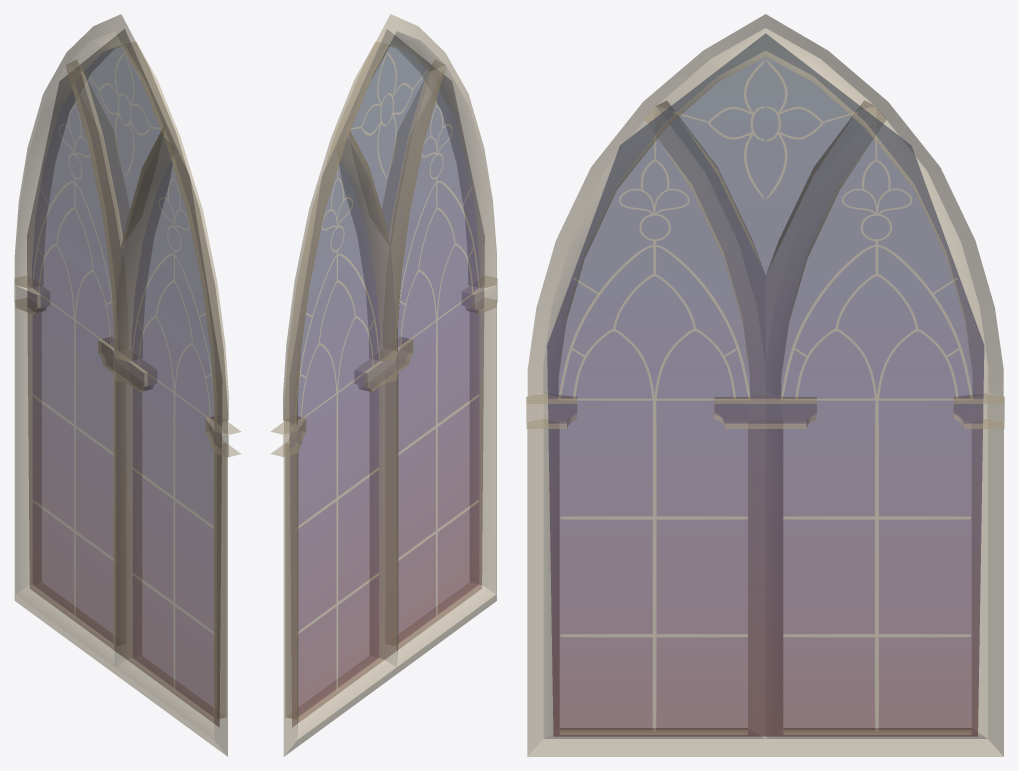
Rendered from witraz1.fbx.
3 views of the same model, side by side, from view 1: azimuth 30°, elevation 25°; view 2: azimuth 150°, elevation 25°; view 3: azimuth 270°, elevation 25° (orthographic). The views are drawn at different scales.
Parts seen in each view (by area): view 1: Cube.001, Cube.020; view 2: Cube.001, Cube.020; view 3: Cube.001, Cube.020.
Boxes of the visible parts, x1=… form: Cube.001: x1=27, y1=29, x2=222, y2=726; Cube.020: x1=14, y1=14, x2=241, y2=756; Cube.001: x1=289, y1=29, x2=484, y2=726; Cube.020: x1=271, y1=14, x2=497, y2=756; Cube.001: x1=547, y1=33, x2=984, y2=736; Cube.020: x1=526, y1=14, x2=1004, y2=756.
Bounding box in the file's own units: 26.03 × 761 × 444.
Materials: 2 (2 with a texture image).
